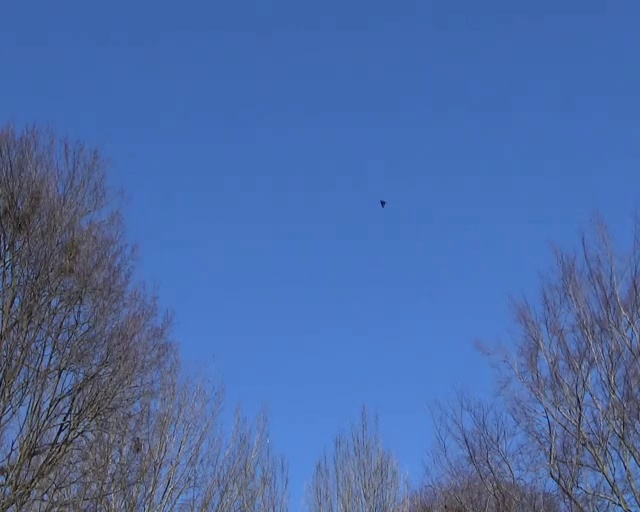BIRD: (379, 199, 386, 208)
